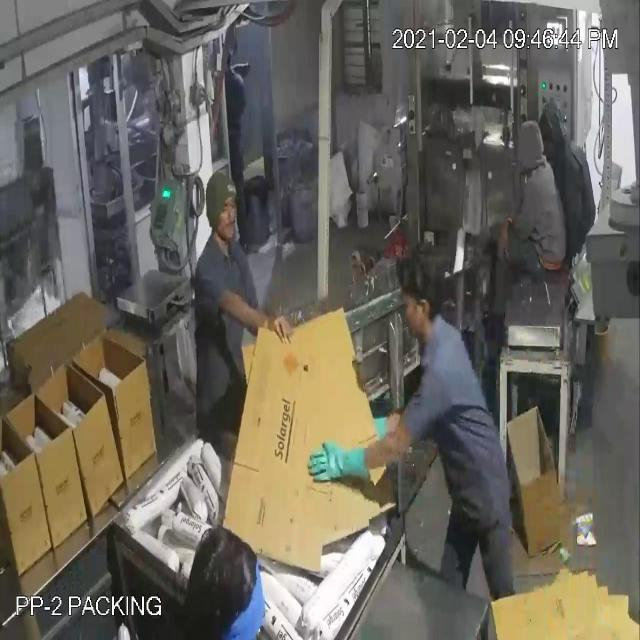No_Gloves: (71, 90, 339, 454)
